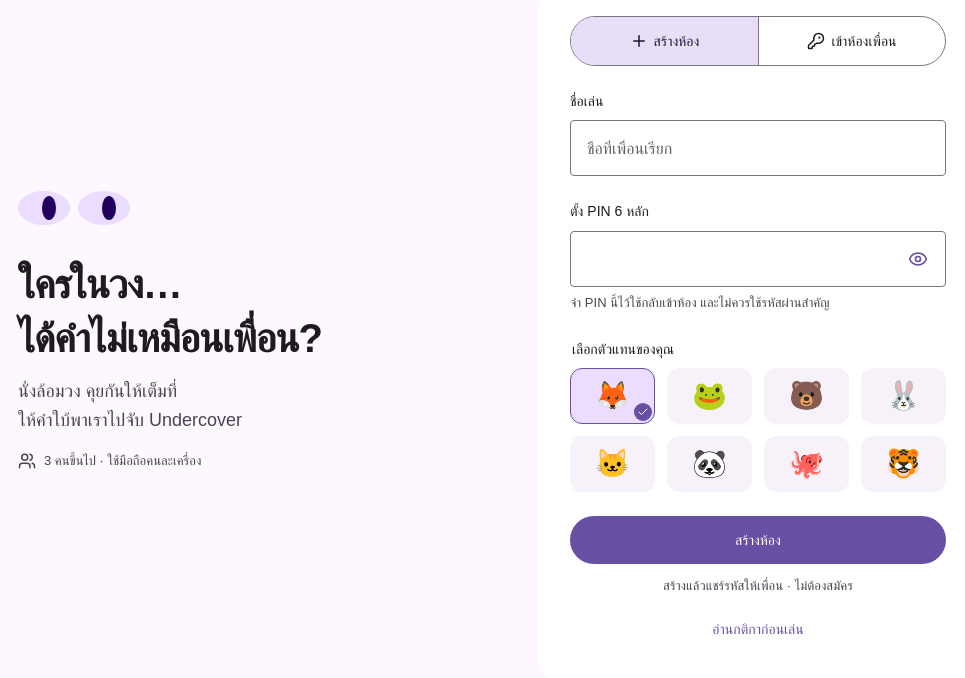
it: shows and focuses an inline error when PIN is malformed
Type "มะลิ" into the field labelled "ชื่อเล่น".
click(758, 148); type("มะลิ")  # box [570, 120, 946, 176]
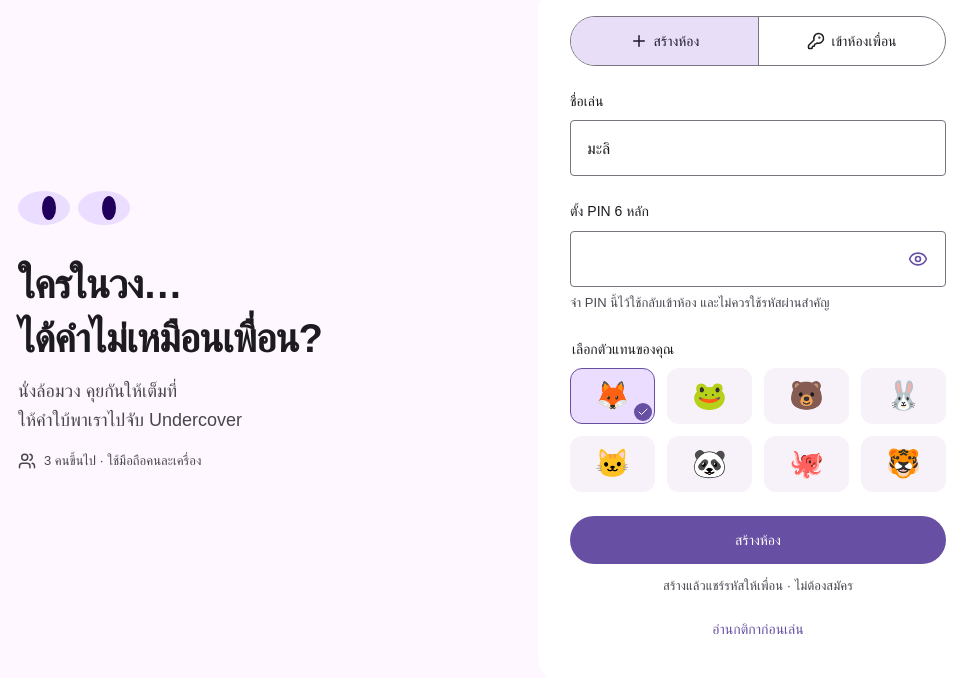
Type "12ab" into the password field labelled "ตั้ง PIN 6 หลัก".
click(758, 259); type("12ab")  # box [570, 231, 946, 287]
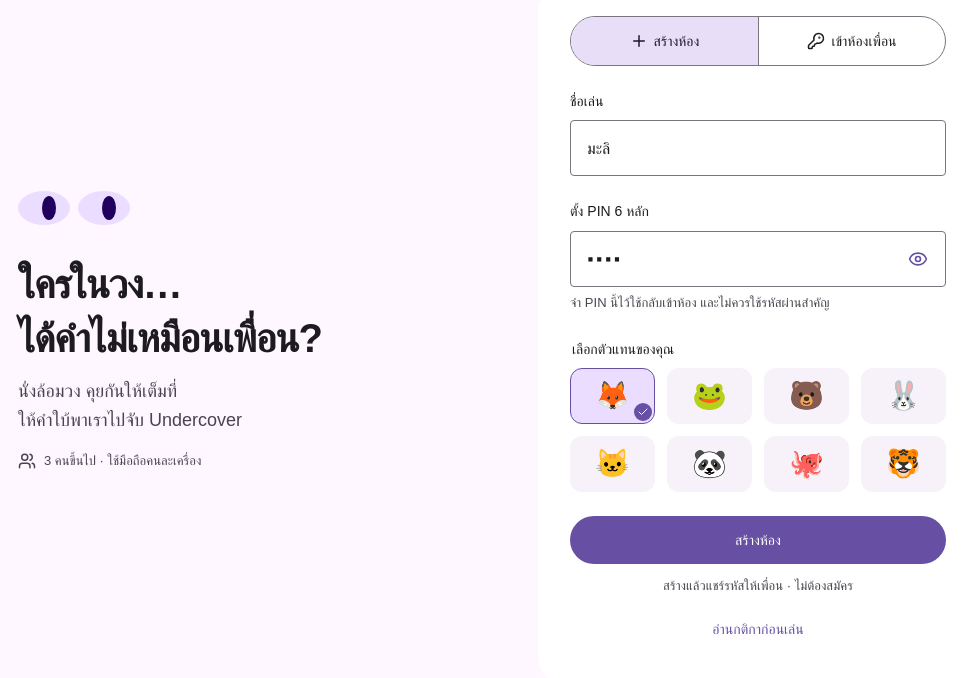
Submit the form, box [570, 90, 946, 564]
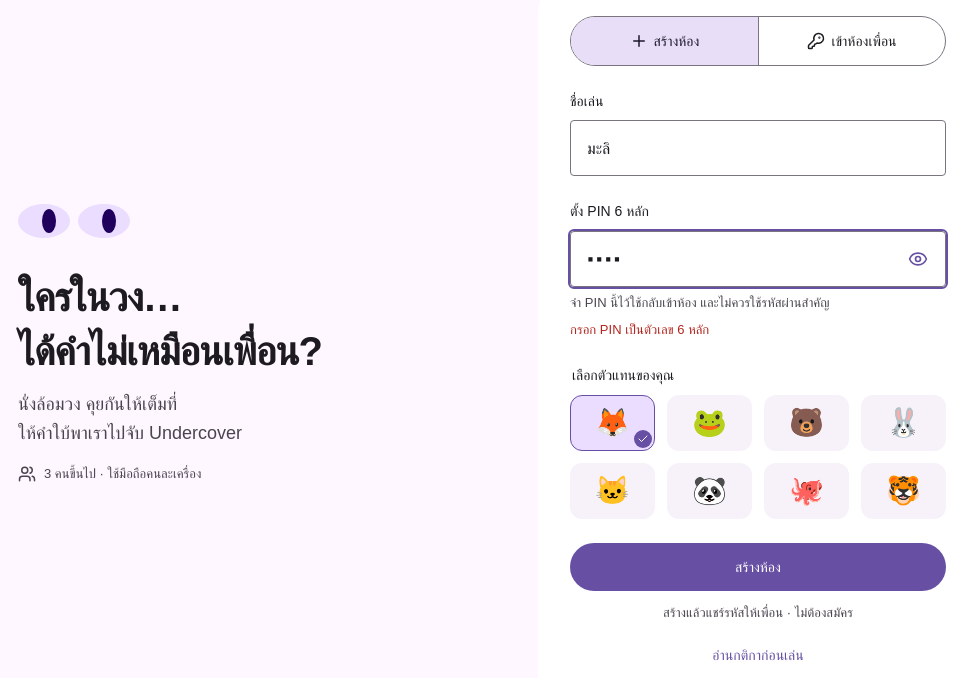
Expected: the message reads "กรอก PIN เป็นตัวเลข 6 หลัก", [570, 322, 709, 337]
